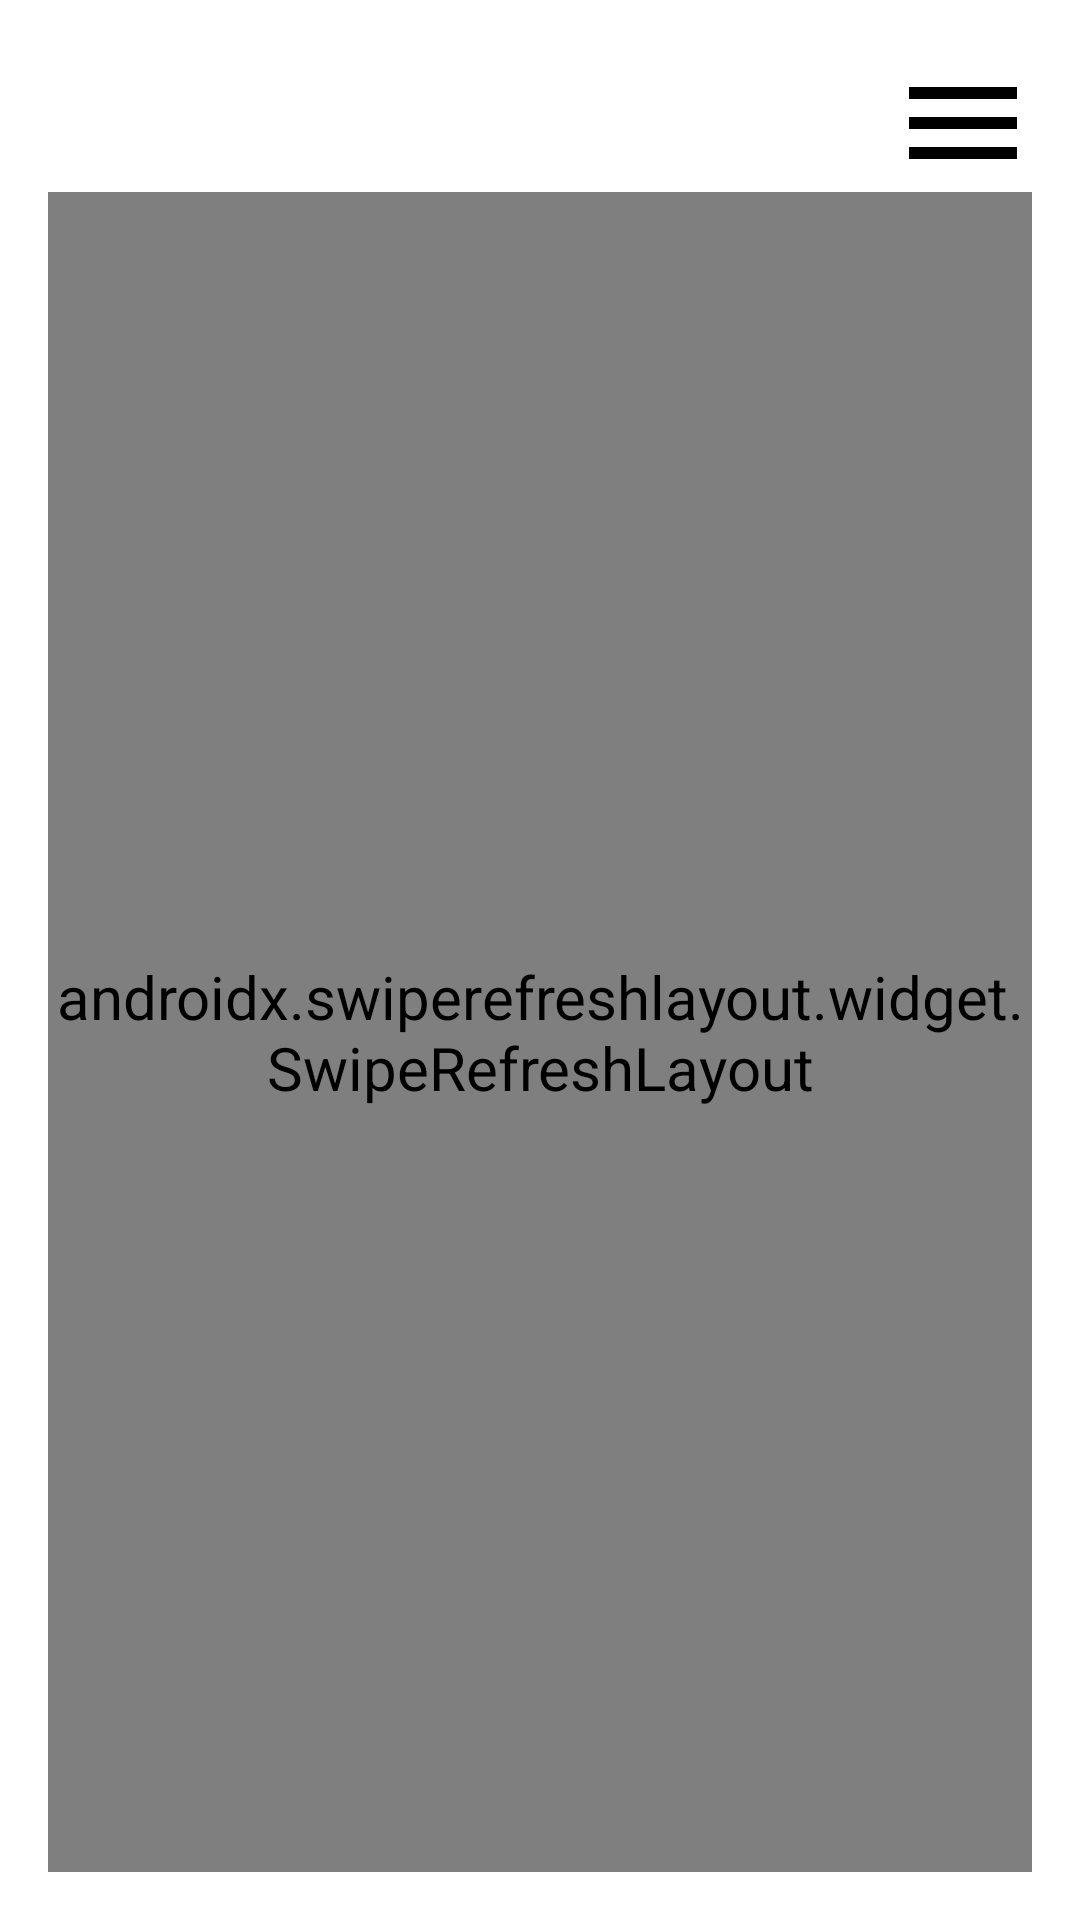

Where to tap for icons on this 1080×1920 app screen, as point (x, y):
menu: point (963, 123)
